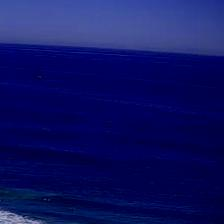surfer: (68, 208, 74, 211), (23, 215, 26, 217), (1, 199, 3, 202)
